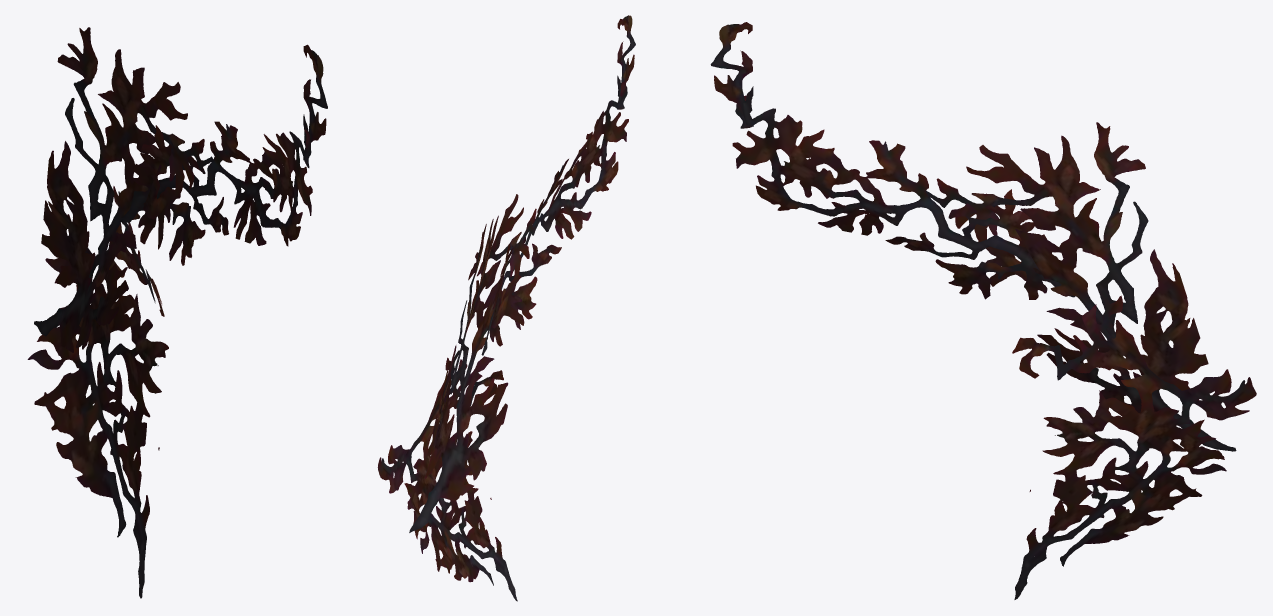
The picture shows the model from 3 angles, left to right: view 1: azimuth 30°, elevation 25°; view 2: azimuth 150°, elevation 25°; view 3: azimuth 270°, elevation 25°; orthographic projection. The views are drawn at different scales.
Bounding box in the file's own units: 1.17 × 11.46 × 10.15.
1 material, 1 textured.
